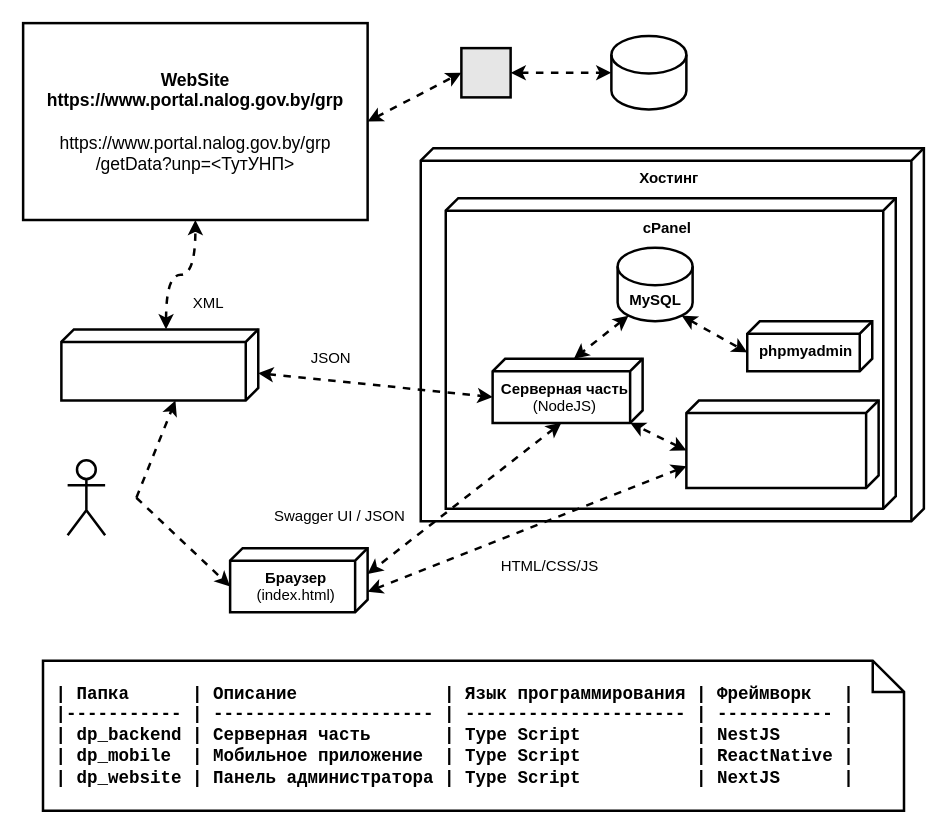
Image size: 946x833. Some labels were removed from this diagram. Each missing label, with the centre of its shape:
"Android (app-release.apk)" goes at point (159, 364).
"БД" goes at point (648, 72).
"Веб-сайт и панель администратора (Apache)" goes at point (781, 444).
"Пользователь" goes at point (86, 497).
